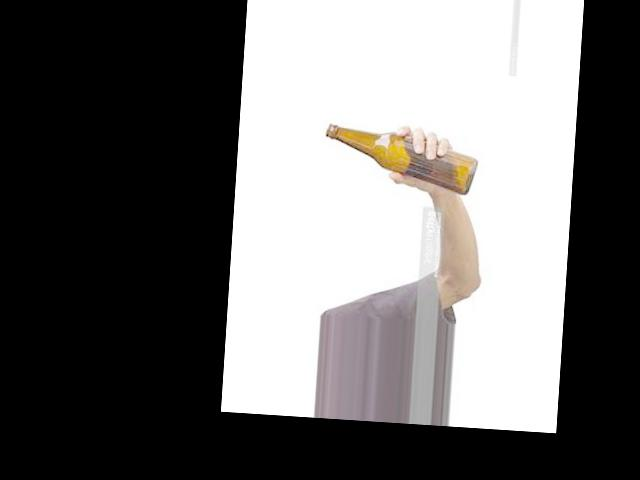beer: (323, 123, 479, 197)
